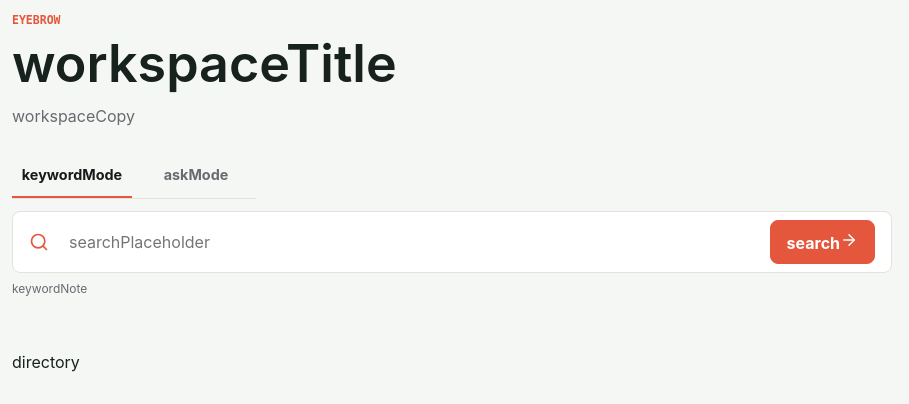
it: public discovery modes › keeps a disabled ask mode visible and explains the initial readiness failure
Click the tab "askMode": (196, 176) [136,154,256,198]
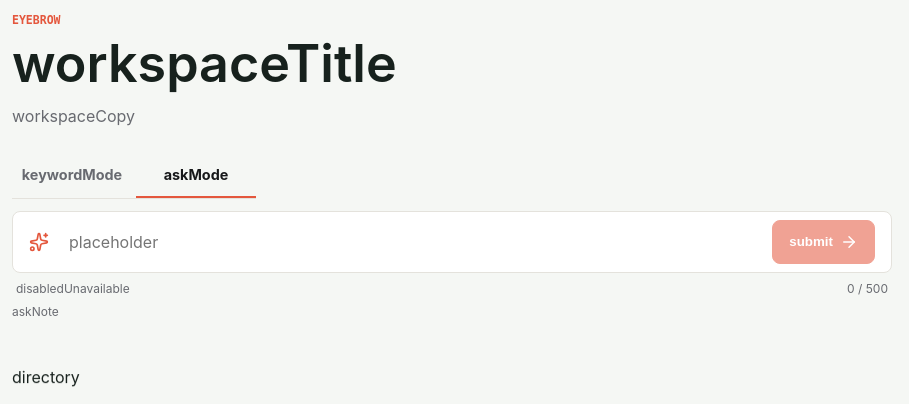
Check: the field named "inputLabel" is disabled, box [61,220,764,264]
Check: the text "disabledUnavailable" is shown, box [16,281,130,296]
Check: the button "submit" is disabled, box [772,220,875,264]
